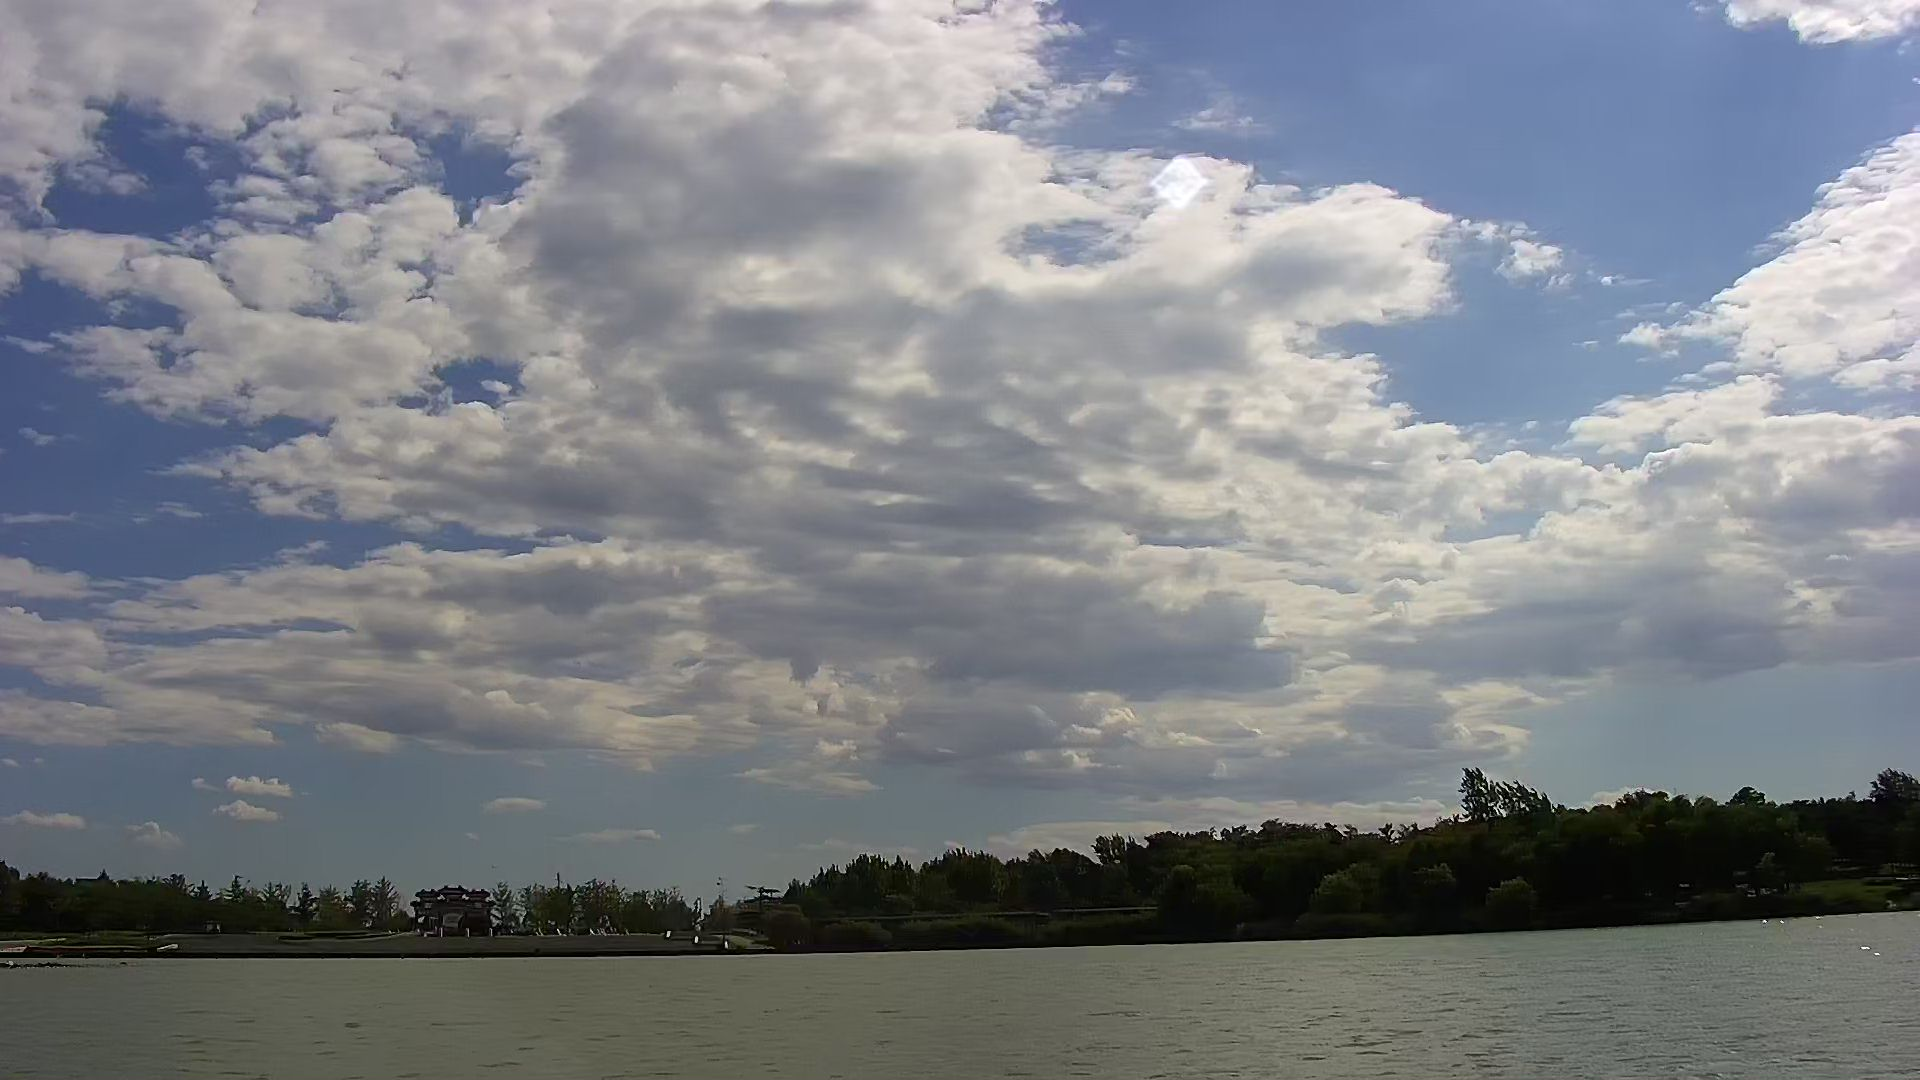harbor: (187, 927, 781, 955)
